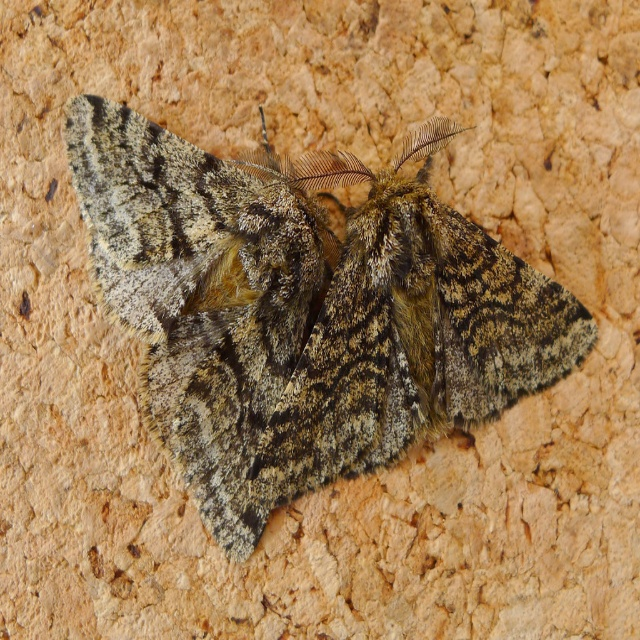Moths and butterflies: (61, 93, 599, 558)
